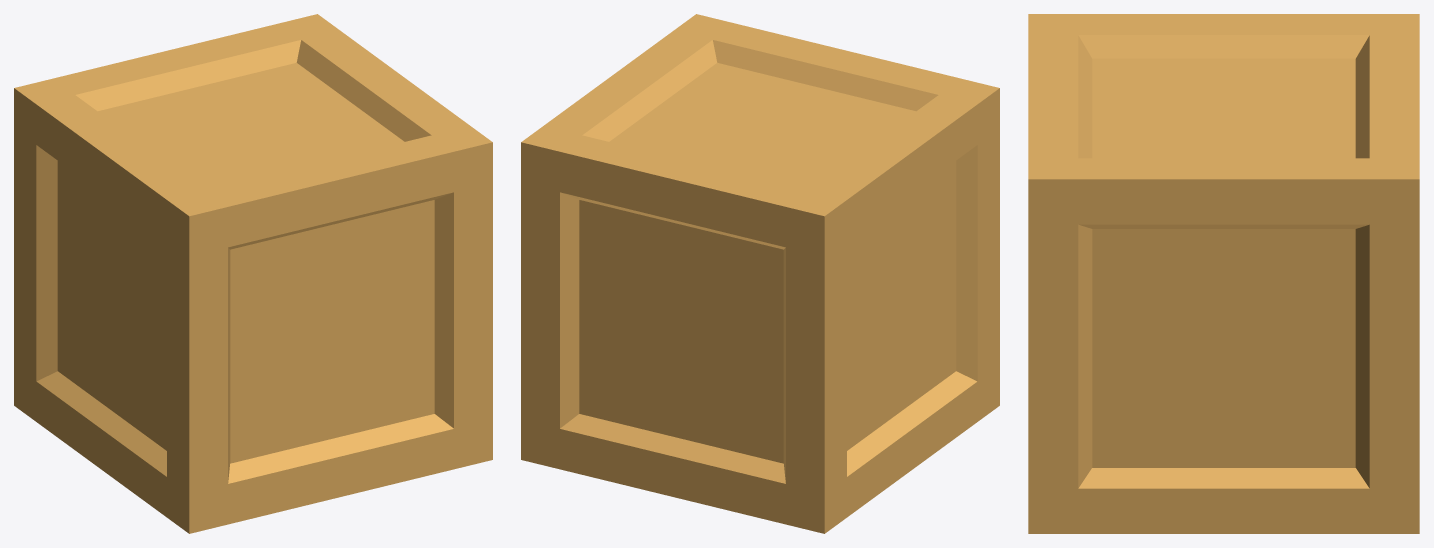
The model's file is lowpoly-fps-tdm-game-map-by-resoforge.glb.
The picture shows the model from 3 angles, left to right: view 1: azimuth 30°, elevation 25°; view 2: azimuth 150°, elevation 25°; view 3: azimuth 270°, elevation 25°; orthographic projection. The views are drawn at different scales.
Parts seen in each view (by area): view 1: Box.061_0; view 2: Box.061_0; view 3: Box.061_0.
Boxes of the visible parts, x1=… form: Box.061_0: x1=14, y1=14, x2=492, y2=533; Box.061_0: x1=521, y1=14, x2=999, y2=533; Box.061_0: x1=1028, y1=14, x2=1419, y2=533.
Size of the model in its own units: 0.3997 by 0.3997 by 0.3997.
